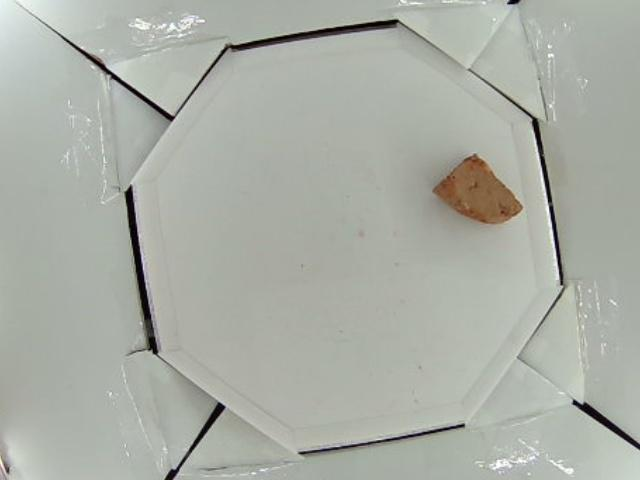Brisk: (432, 155, 524, 224)
